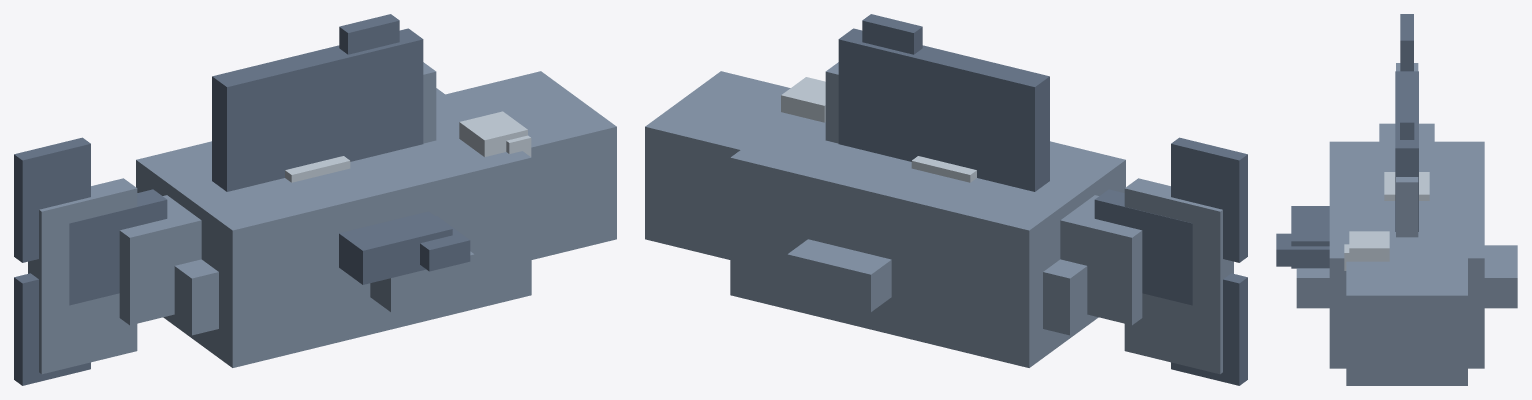
File: fish_veil_shad.glb
3 renders of one model, left to right at view 1: azimuth 30°, elevation 25°; view 2: azimuth 150°, elevation 25°; view 3: azimuth 270°, elevation 25°, orthographic. The views are drawn at different scales.
Parts seen in each view (by area): view 1: FishArt_body, FishArt_dorsal, FishArt_tail, FishArt_pectoral, FishArt_eye, FishArt_specialty; view 2: FishArt_body, FishArt_dorsal, FishArt_tail, FishArt_eye, FishArt_specialty; view 3: FishArt_body, FishArt_pectoral, FishArt_dorsal, FishArt_eye, FishArt_tail, FishArt_specialty.
Boxes of the visible parts, x1=… form: FishArt_body: x1=28, y1=62, x2=616, y2=374; FishArt_dorsal: x1=212, y1=14, x2=423, y2=191; FishArt_tail: x1=14, y1=137, x2=167, y2=385; FishArt_pectoral: x1=339, y1=211, x2=470, y2=284; FishArt_eye: x1=459, y1=111, x2=531, y2=156; FishArt_specialty: x1=285, y1=156, x2=350, y2=182; FishArt_body: x1=645, y1=62, x2=1233, y2=374; FishArt_dorsal: x1=838, y1=14, x2=1049, y2=191; FishArt_tail: x1=1094, y1=137, x2=1247, y2=385; FishArt_eye: x1=781, y1=77, x2=825, y2=122; FishArt_specialty: x1=911, y1=156, x2=976, y2=182; FishArt_body: x1=1296, y1=63, x2=1517, y2=385; FishArt_pectoral: x1=1276, y1=206, x2=1329, y2=268; FishArt_dorsal: x1=1395, y1=71, x2=1418, y2=231; FishArt_eye: x1=1344, y1=231, x2=1389, y2=270; FishArt_tail: x1=1400, y1=14, x2=1413, y2=71; FishArt_specialty: x1=1384, y1=172, x2=1429, y2=200.
Bounding box in the file's own units: 0.3091 × 0.1442 × 0.1439.
